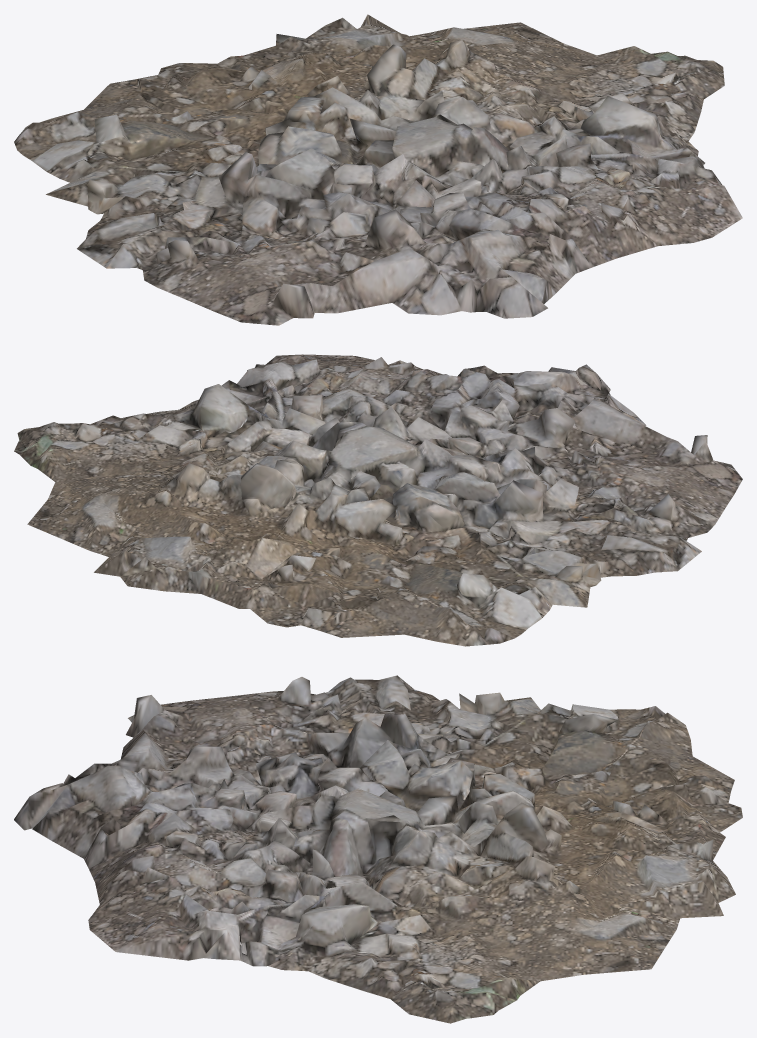
Rendered from SM_PathRocky_01_04_rocks.fbx.
3 views of the same model, one above another, from view 1: azimuth 30°, elevation 25°; view 2: azimuth 150°, elevation 25°; view 3: azimuth 270°, elevation 25° (orthographic). The views are drawn at different scales.
Parts seen in each view (by area): view 1: sm_PathRocky_01_04_rocks_LOD0; view 2: sm_PathRocky_01_04_rocks_LOD0; view 3: sm_PathRocky_01_04_rocks_LOD0.
Boxes of the visible parts, x1,y1,x2,y2 form: sm_PathRocky_01_04_rocks_LOD0: (14,14,742,325); sm_PathRocky_01_04_rocks_LOD0: (14,354,742,646); sm_PathRocky_01_04_rocks_LOD0: (14,675,742,1023).
Bounding box in the file's own units: 184 × 205 × 18.95.
